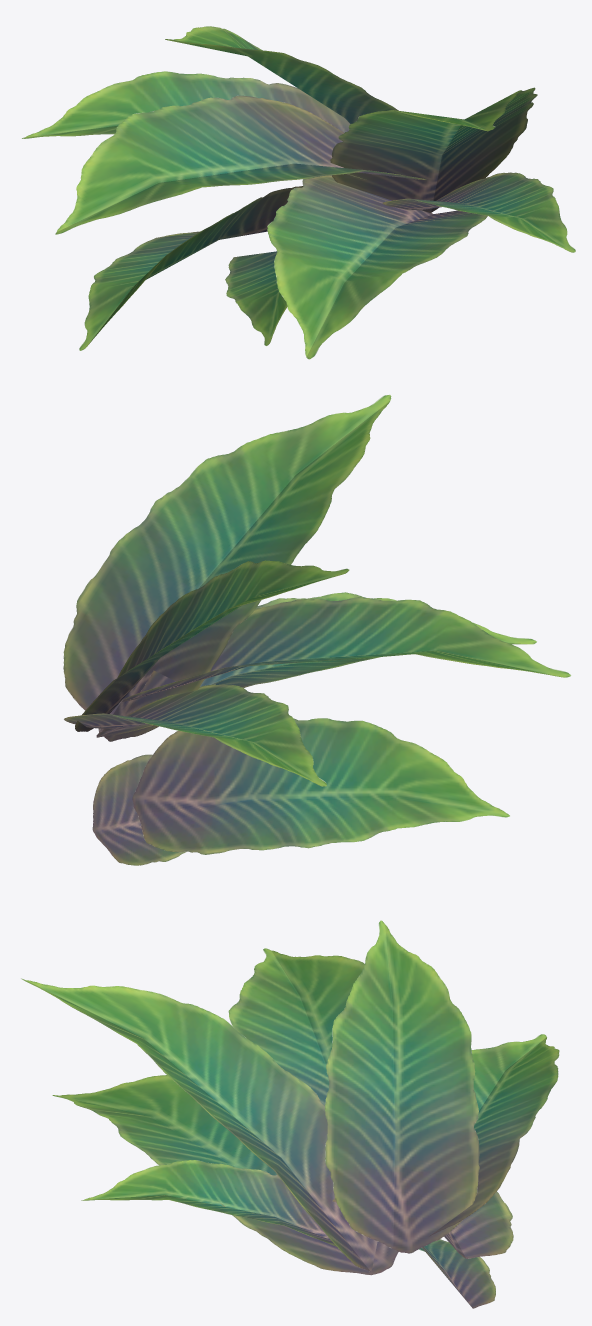
Rendered from Map_07_grass11.FBX.
3 renders of one model, top to bottom at view 1: azimuth 30°, elevation 25°; view 2: azimuth 150°, elevation 25°; view 3: azimuth 270°, elevation 25°, orthographic. The views are drawn at different scales.
Visible parts, largest first — view 1: Map_07_grass11; view 2: Map_07_grass11; view 3: Map_07_grass11.
Part boxes in pixels (x1,y1,x2,y2): Map_07_grass11: [22, 26, 575, 359]; Map_07_grass11: [63, 394, 571, 865]; Map_07_grass11: [21, 920, 559, 1308].
Bounding box in the file's own units: 142 × 83.91 × 135.
Materials: 1 (1 with a texture image).
